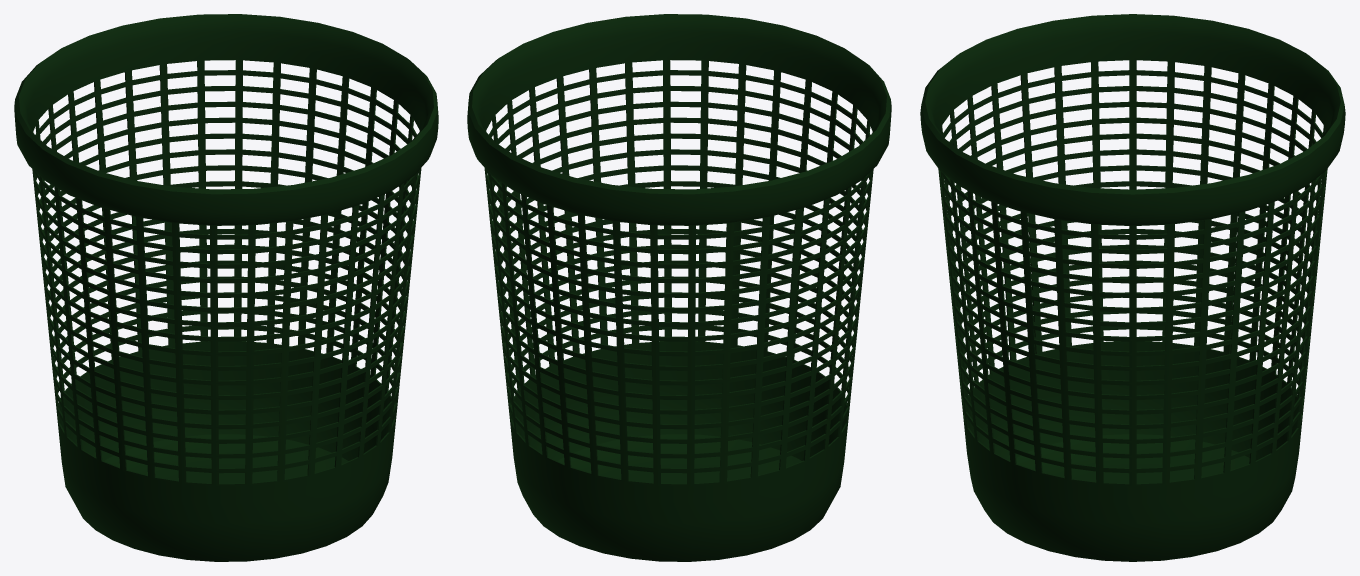
Rendered from TrashCan.fbx.
The picture shows the model from 3 angles, left to right: view 1: azimuth 30°, elevation 25°; view 2: azimuth 150°, elevation 25°; view 3: azimuth 270°, elevation 25°; orthographic projection.
Visible parts, largest first — view 1: Circle.001; view 2: Circle.001; view 3: Circle.001.
Boxes of the visible parts, x1,y1,x2,y2 form: Circle.001: [14, 14, 438, 561]; Circle.001: [467, 14, 891, 561]; Circle.001: [920, 14, 1345, 561].
Bounding box in the file's own units: 258 × 272 × 258.
